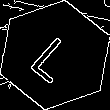L_NE: (26, 26, 84, 84)
